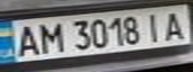0: (90, 16, 109, 48)
1: (106, 13, 127, 46)
3: (66, 17, 90, 51)
8: (121, 12, 145, 45)
A: (9, 21, 42, 57), (160, 8, 190, 42)
I: (139, 10, 169, 43)
M: (33, 19, 66, 54)
